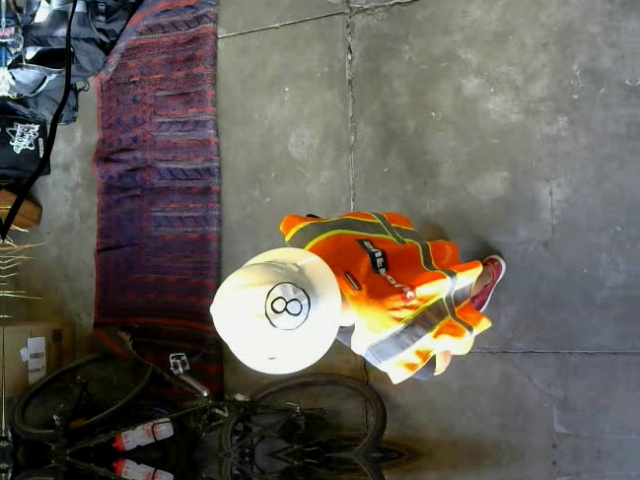eight: (266, 279, 309, 327)
